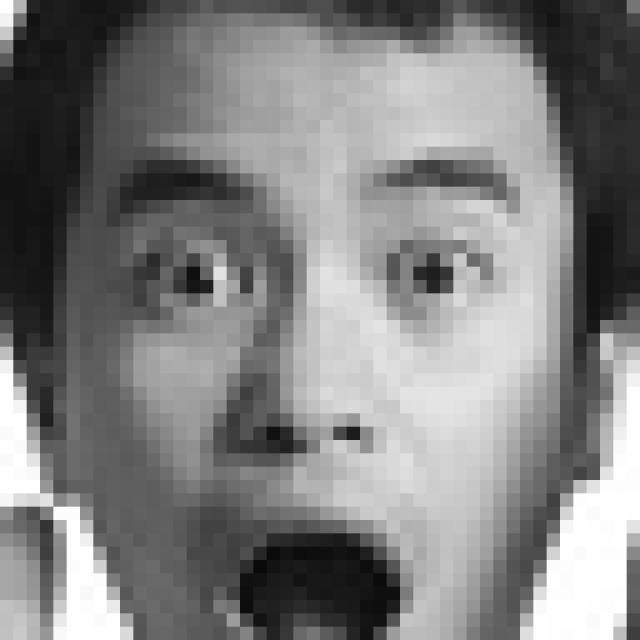surprise: (103, 153, 526, 640)
